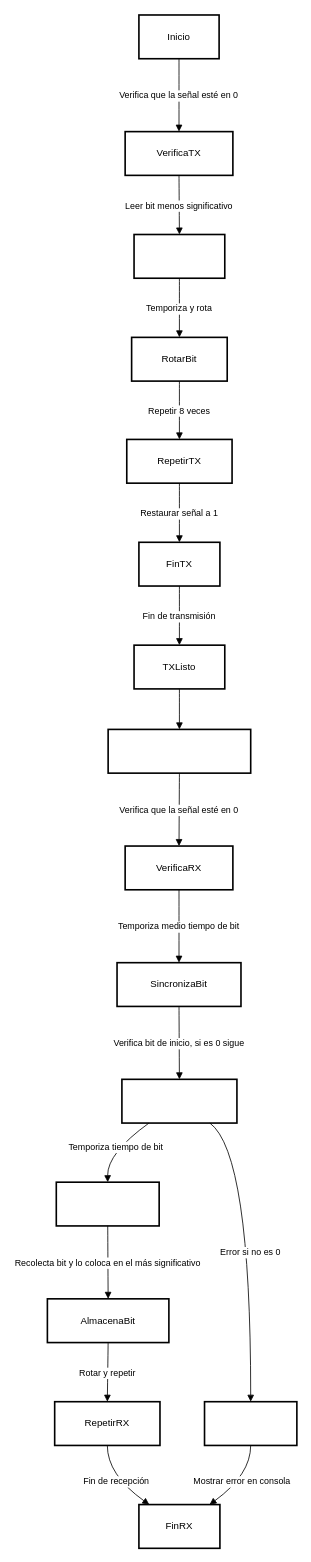
The diagram is 311 pixels wide and 1562 high, and some of its shapes have lost their labels. The shapes that lost their labels are listed below. From the top down, each one's centre as x and y in pixels, then its label:
point 179,256: LeerBit
point 179,751: Inicio Recepción
point 179,1100: ValidaInicio
point 107,1203: EsperaBit
point 250,1423: ErrorRX
